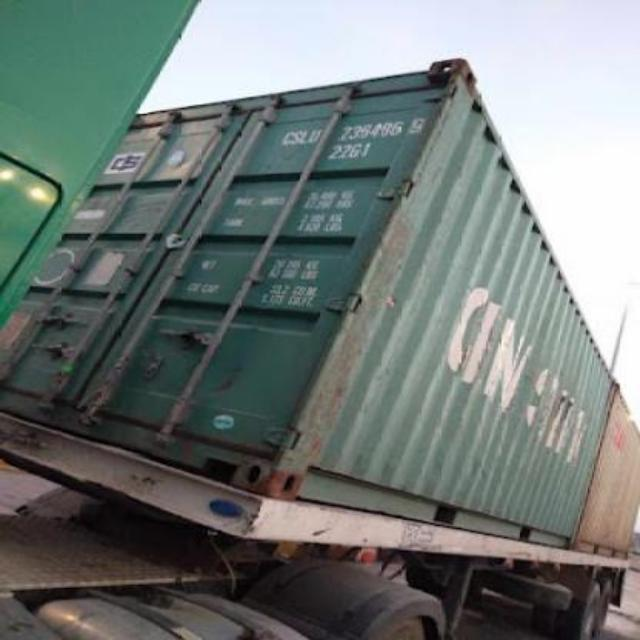2: (338, 118, 348, 142)
3: (348, 120, 360, 144)
4: (368, 119, 380, 143)
6: (390, 115, 402, 142), (358, 115, 370, 141)
8: (378, 115, 390, 141)
9: (408, 115, 424, 136)
C: (280, 128, 292, 148)
L: (300, 125, 308, 146)
S: (290, 123, 300, 147)
U: (308, 124, 320, 146)
